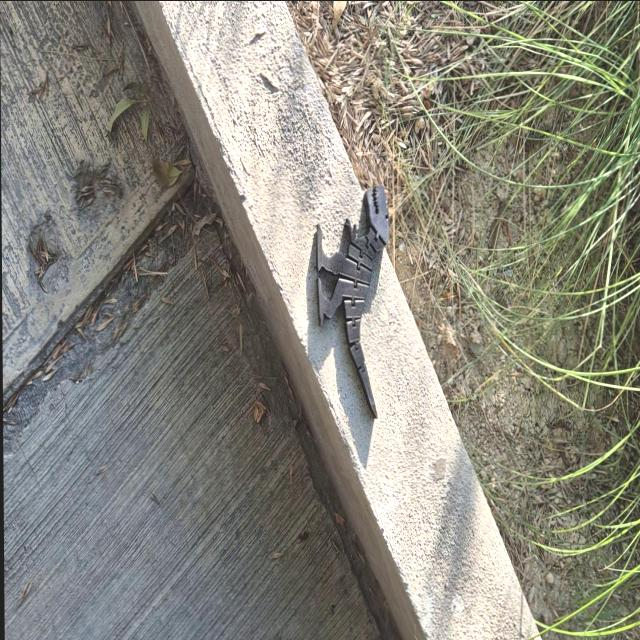dino: (314, 183, 392, 419)
